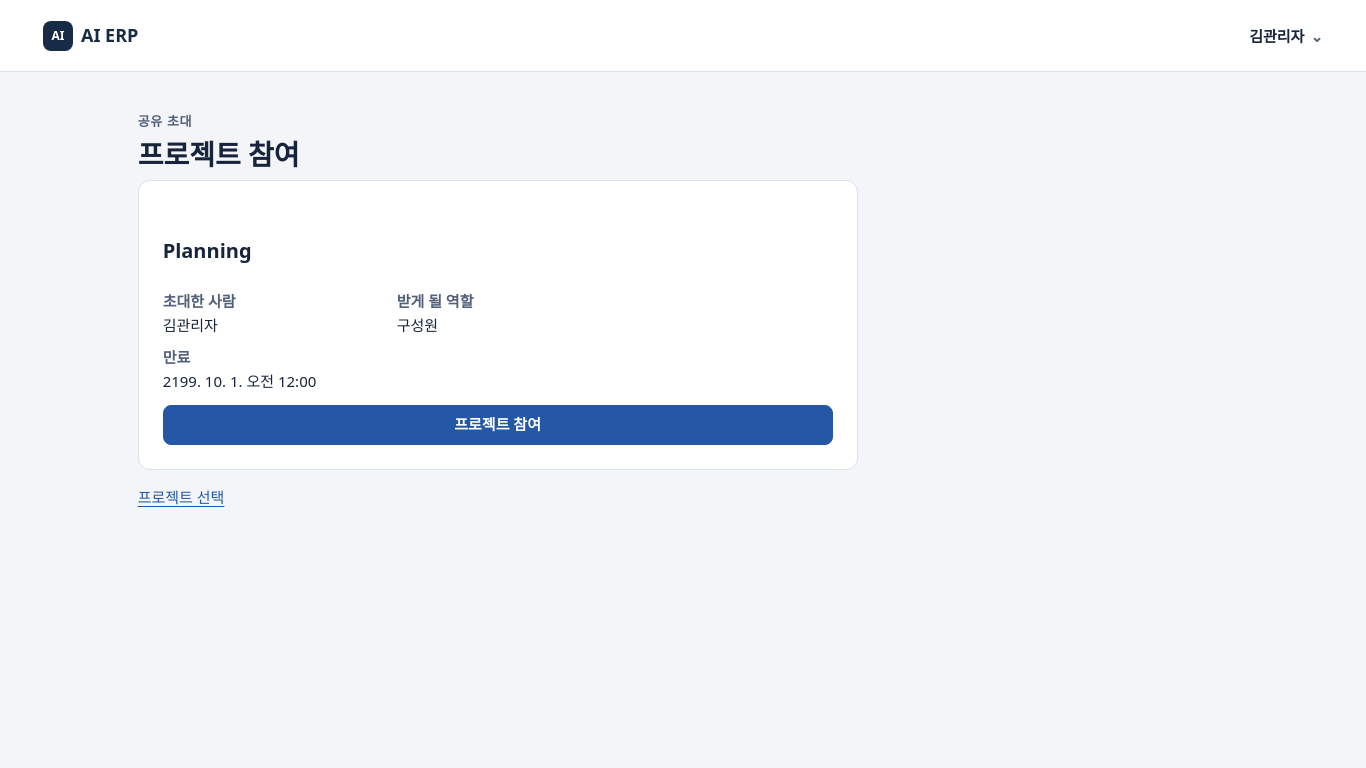
Scenario: join conflict refreshes the preview before deciding whether joining remains available
Click the button "프로젝트 참여" at (498, 425), box [163,405,833,445]
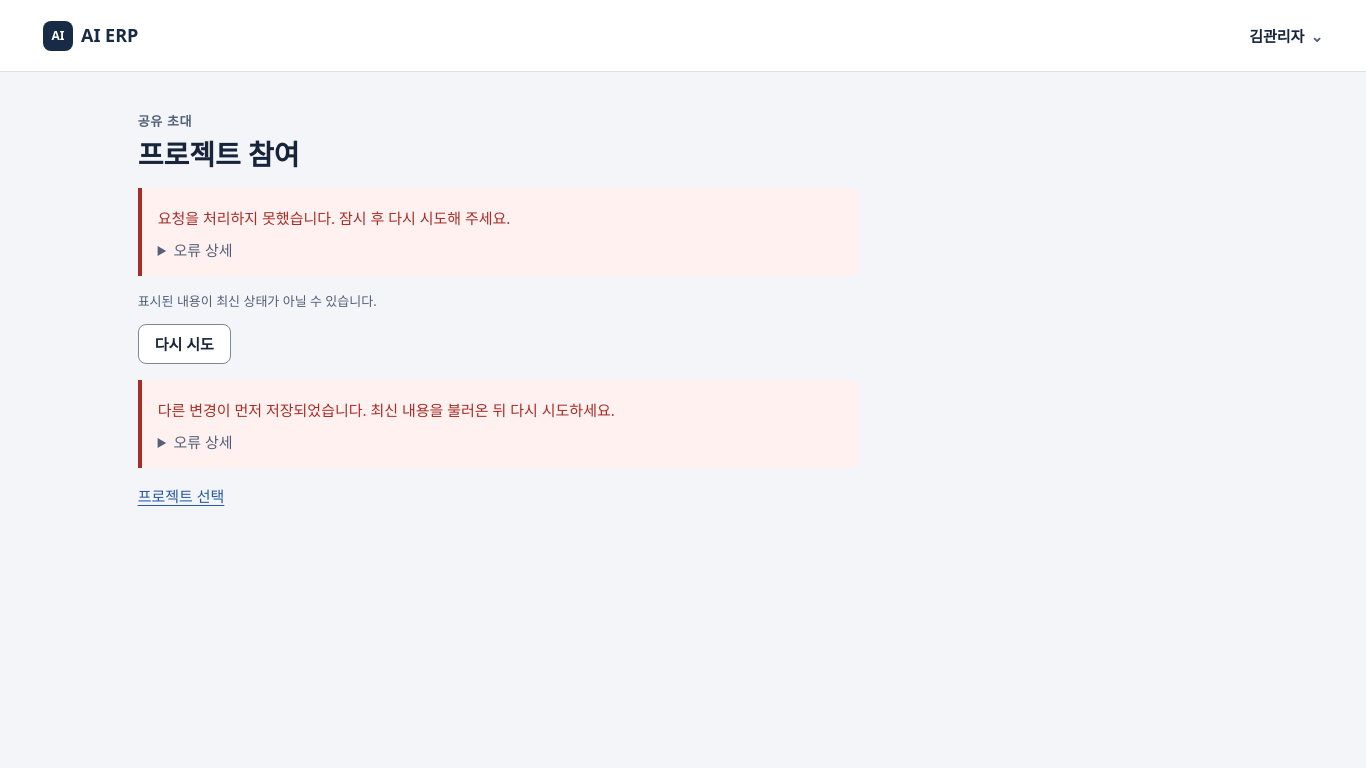
Click the button "다시 시도" at (184, 344), box [138,324,231,364]
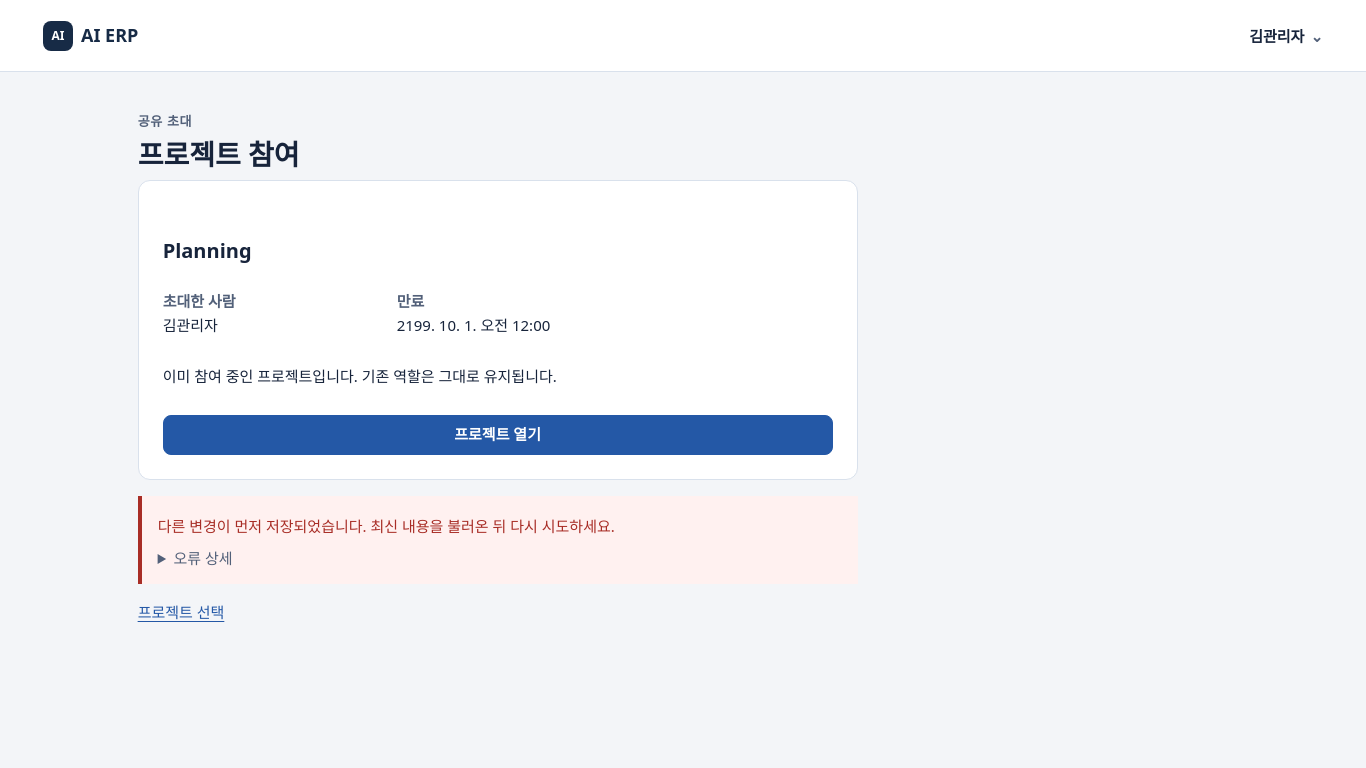
Expected: the text "받게 될 역할" is not shown
Expected: the link "프로젝트 열기" is shown, [163,415,833,455]
